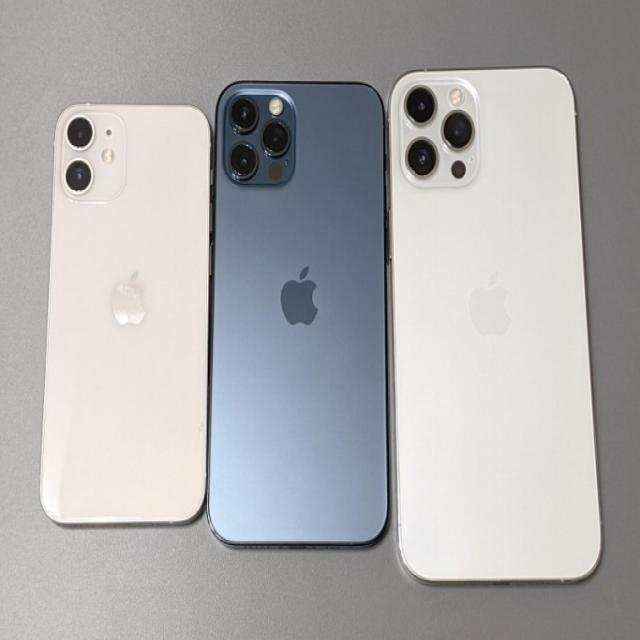phone: (391, 69, 602, 583), (210, 79, 389, 546), (39, 105, 208, 524)
